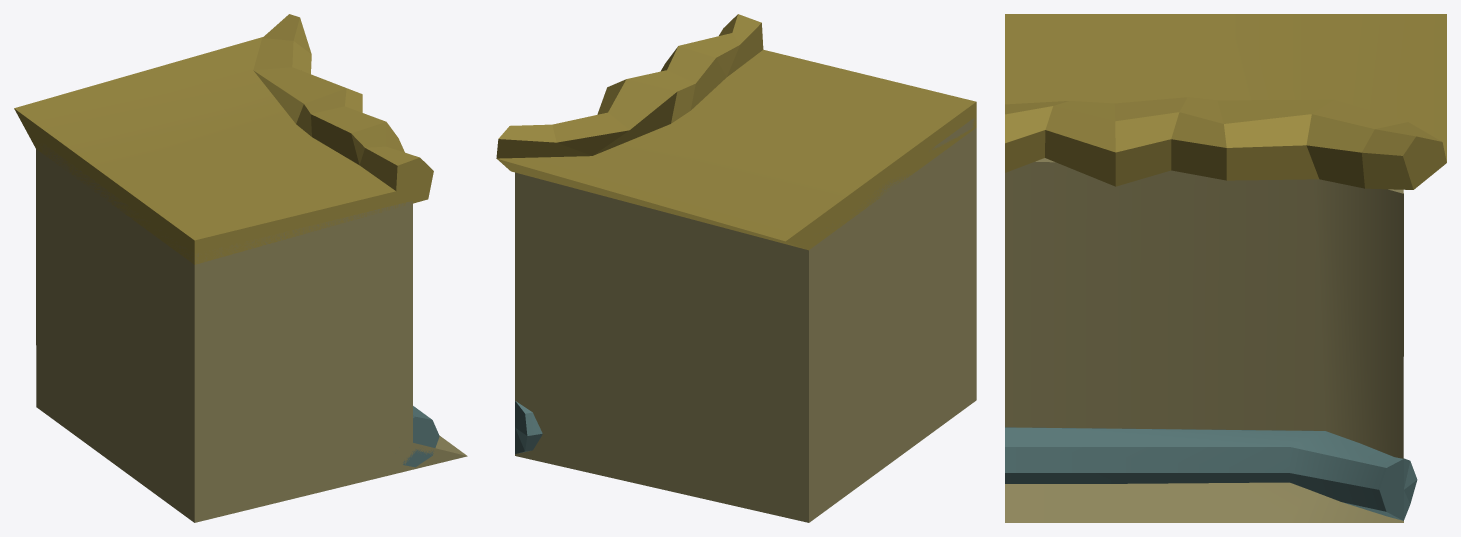
File: Int_12_Wall_Cross_Centerr_Up__21.fbx
3 renders of one model, left to right at view 1: azimuth 30°, elevation 25°; view 2: azimuth 150°, elevation 25°; view 3: azimuth 270°, elevation 25°, orthographic. The views are drawn at different scales.
Parts seen in each view (by area): view 1: Int_12_Wall_Cross_Centerr_Up__21; view 2: Int_12_Wall_Cross_Centerr_Up__21; view 3: Int_12_Wall_Cross_Centerr_Up__21.
Part boxes in pixels (x1,y1,x2,y2): Int_12_Wall_Cross_Centerr_Up__21: (14, 14, 467, 522); Int_12_Wall_Cross_Centerr_Up__21: (496, 14, 976, 522); Int_12_Wall_Cross_Centerr_Up__21: (1005, 14, 1446, 522).
Bounding box in the file's own units: 0.9944 × 1.1 × 1.14.
